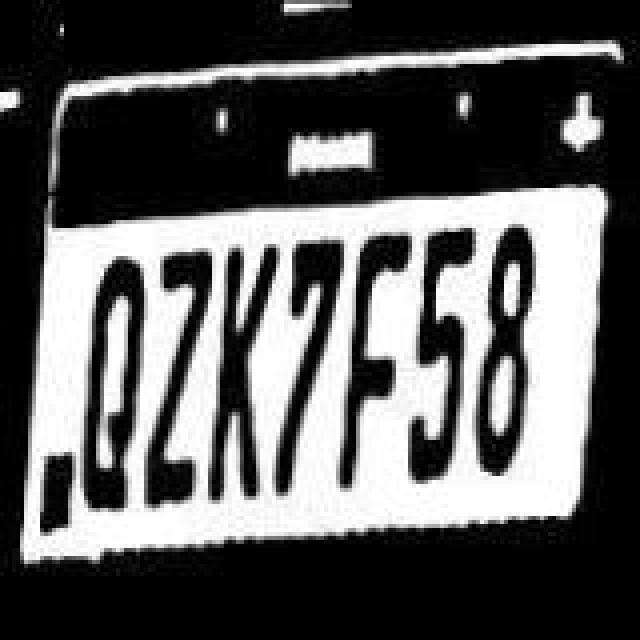5: (406, 216, 482, 484)
7: (268, 224, 348, 500)
8: (474, 212, 542, 480)
F: (336, 230, 416, 494)
K: (206, 232, 282, 508)
Q: (84, 244, 148, 508)
Z: (144, 242, 216, 514)
